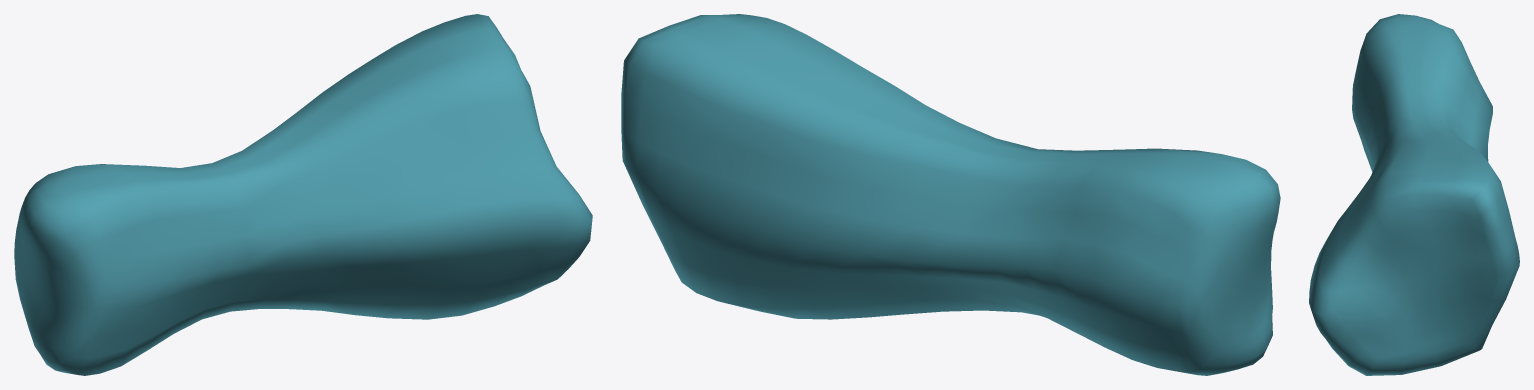
File: VIS_Alpha_Surface_032.dae
3 renders of one model, left to right at view 1: azimuth 30°, elevation 25°; view 2: azimuth 150°, elevation 25°; view 3: azimuth 270°, elevation 25°, orthographic. The views are drawn at different scales.
Visible parts, largest first — view 1: VIS_Alpha_Surface_032; view 2: VIS_Alpha_Surface_032; view 3: VIS_Alpha_Surface_032.
Boxes of the visible parts, x1=… form: VIS_Alpha_Surface_032: x1=14, y1=14, x2=592, y2=375; VIS_Alpha_Surface_032: x1=621, y1=14, x2=1280, y2=375; VIS_Alpha_Surface_032: x1=1309, y1=14, x2=1519, y2=375.
Size of the model in its own units: 0.2675 by 0.1091 by 0.119.
